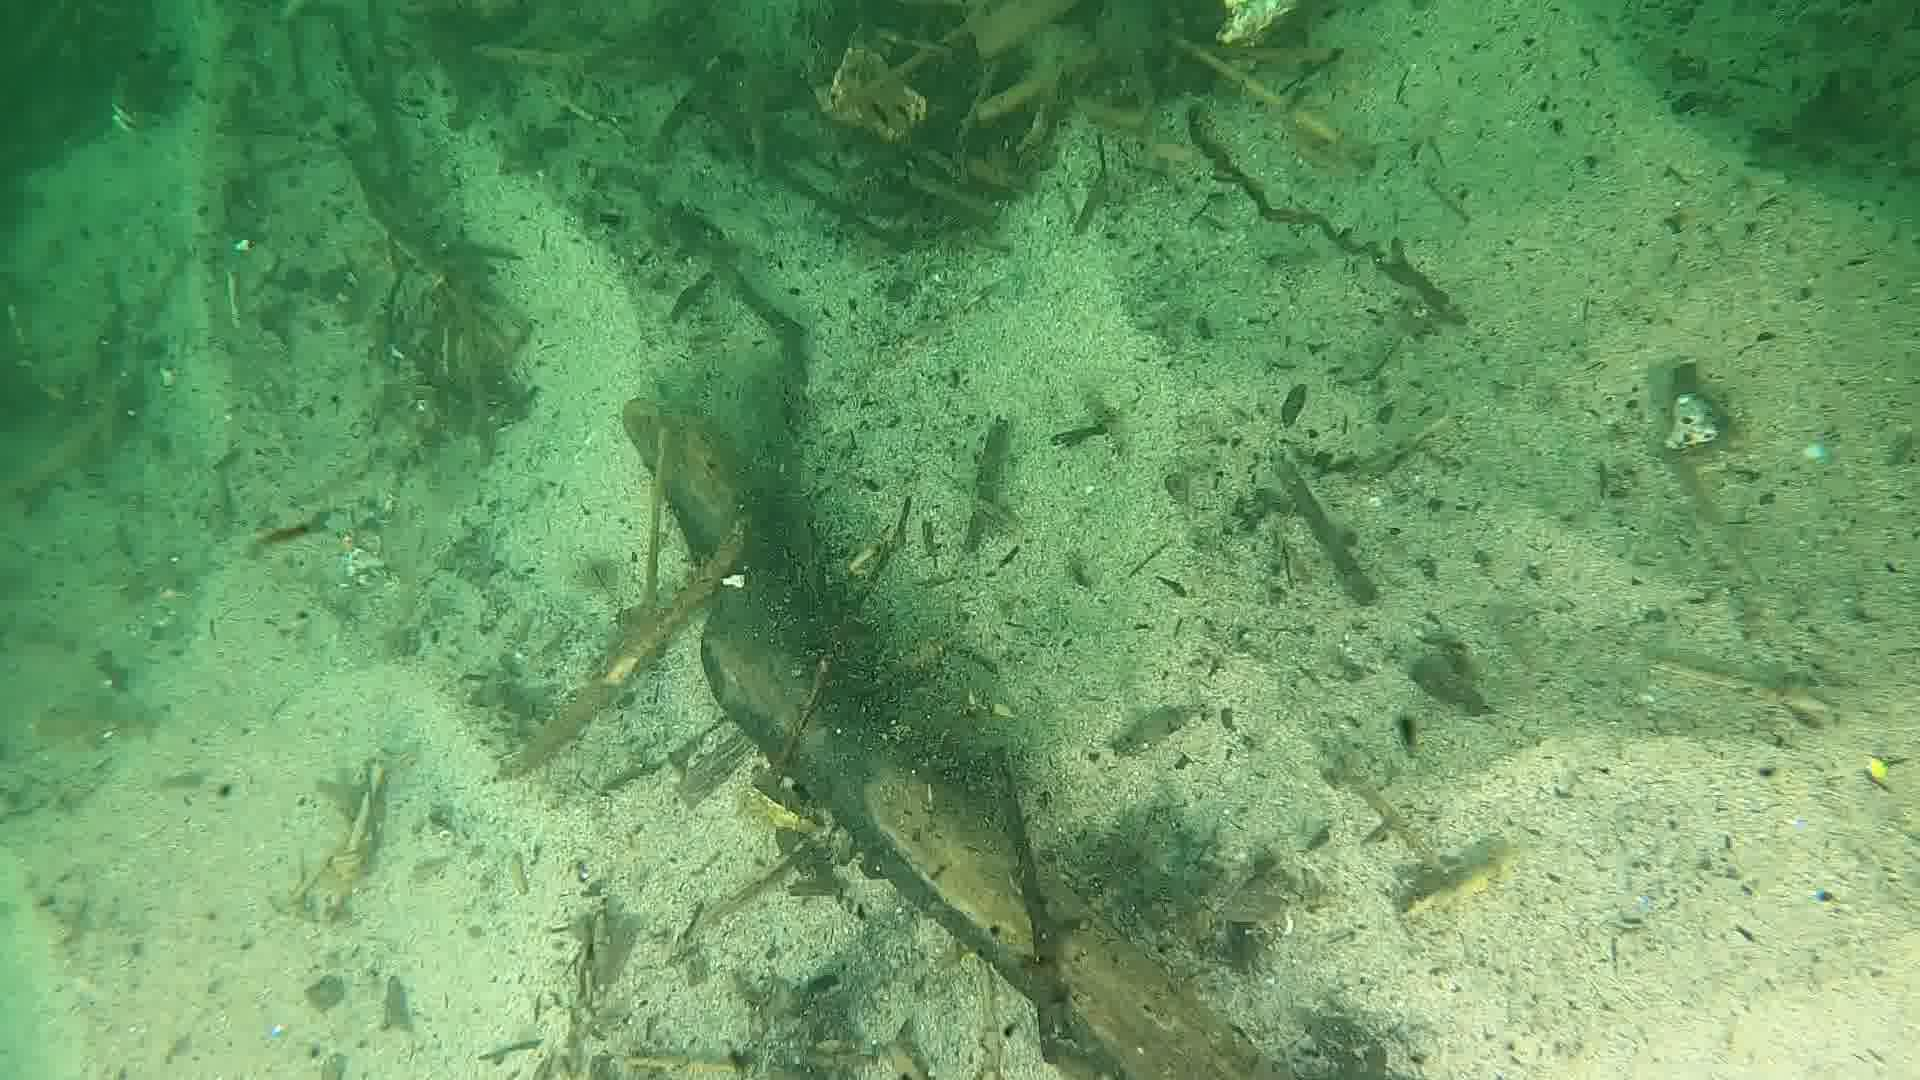wood: (497, 396, 1317, 1080)
